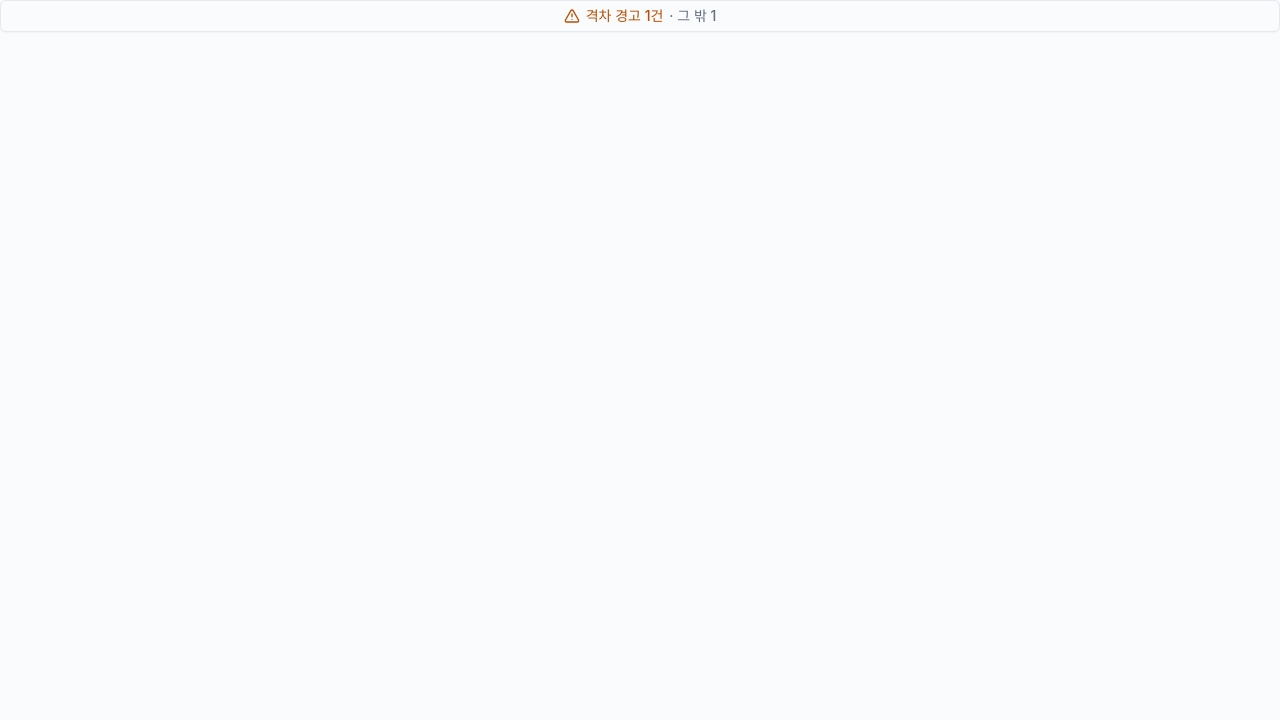
Test: 일정 경고 버튼 › 격차 경고 건수를 버튼에 보이고 누르면 목록을 연다
The width and height of the screenshot is (1280, 720).
Click the button with test id "schedule-warnings": coordinates (640, 16) [0, 0, 1279, 32]
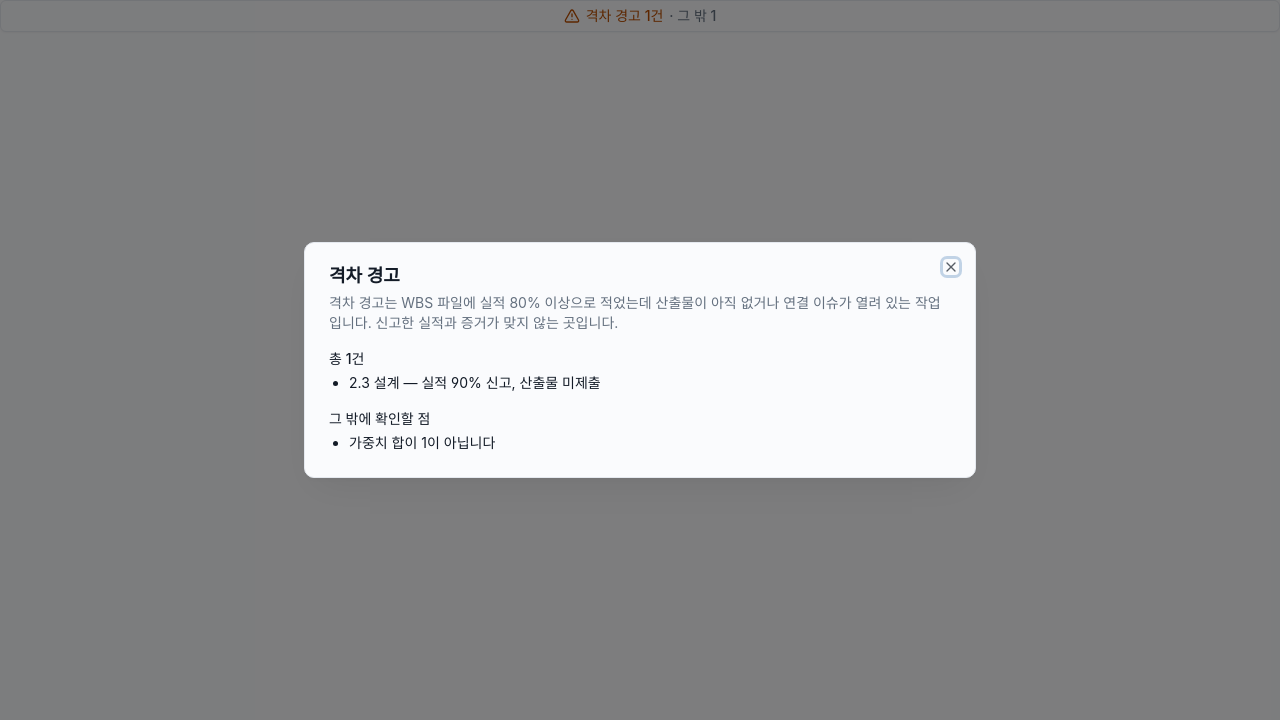
expect the list item "2.3 설계 — 실적 90% 신고, 산출물 미제출" is shown: met, box [349, 374, 601, 391]
expect the list item "가중치 합이 1이 아닙니다" is shown: met, box [349, 434, 495, 451]
